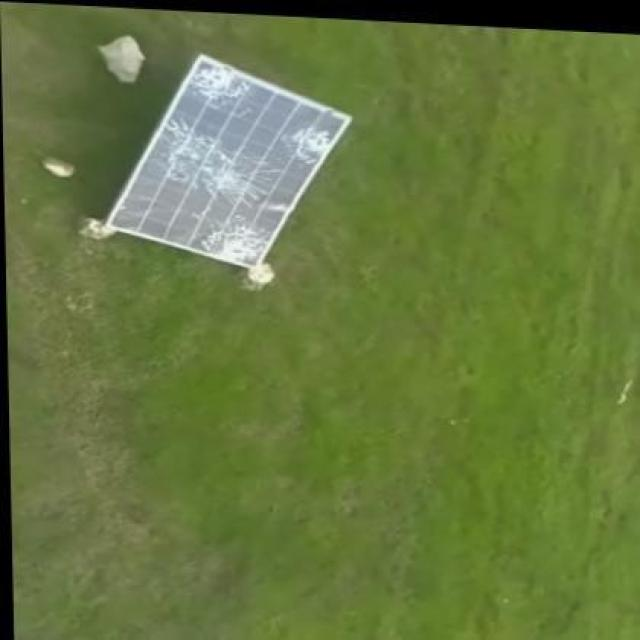cracked: (106, 50, 354, 267)
